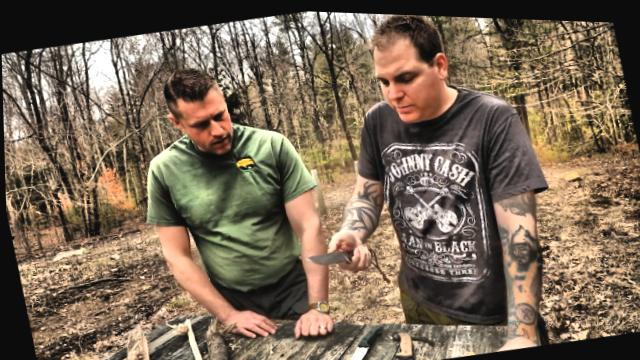knife: (294, 225, 376, 281)
